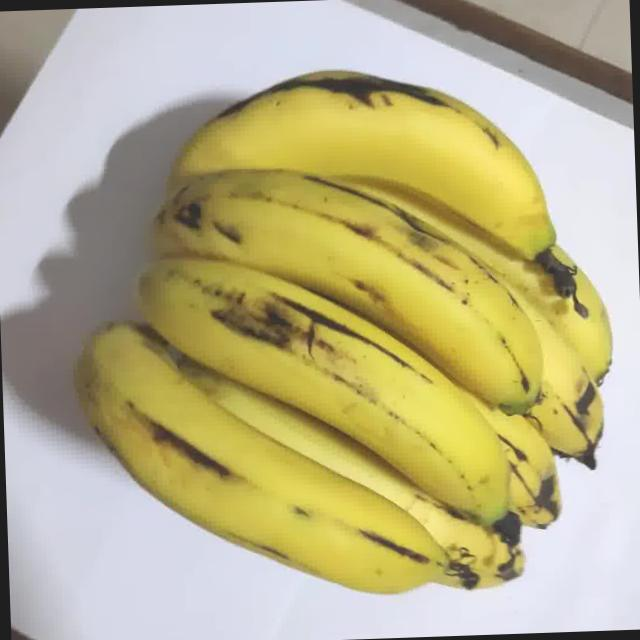banana_pacche: (3, 1, 640, 639)
